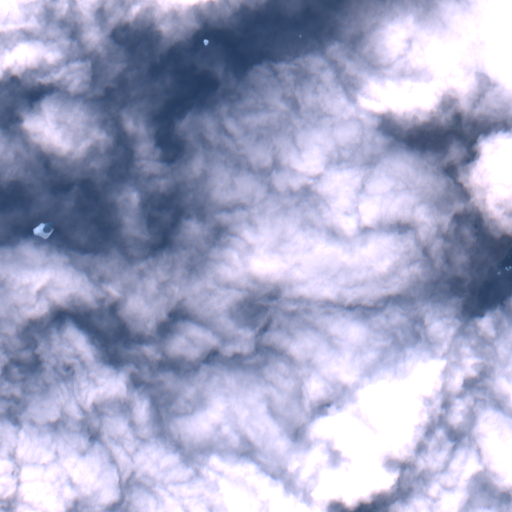Iceberg: (33, 223, 52, 238), (203, 39, 208, 45), (505, 266, 511, 270), (497, 271, 500, 274), (299, 35, 301, 37)
